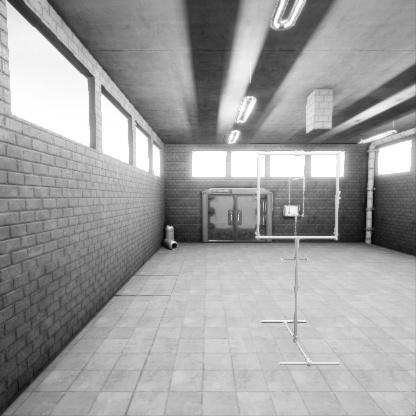gate: (258, 182, 342, 265), (288, 201, 305, 240)
